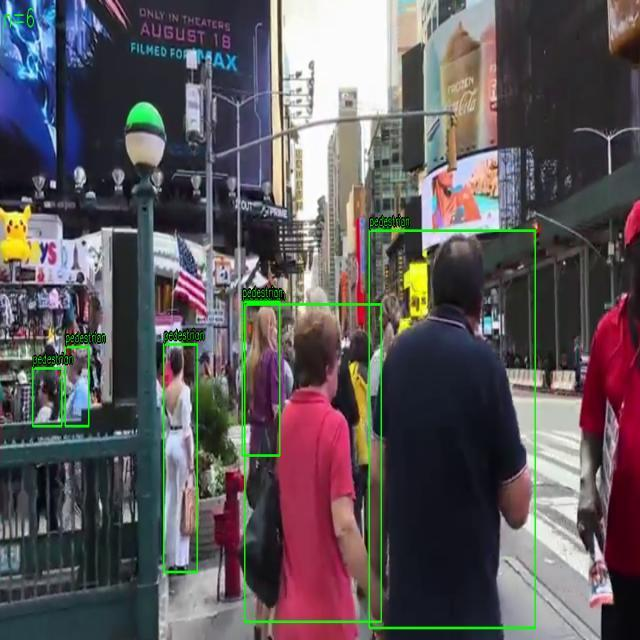person: (368, 231, 536, 628), (245, 304, 382, 622), (164, 343, 198, 572), (242, 301, 280, 456), (65, 346, 89, 426), (32, 368, 62, 427)
